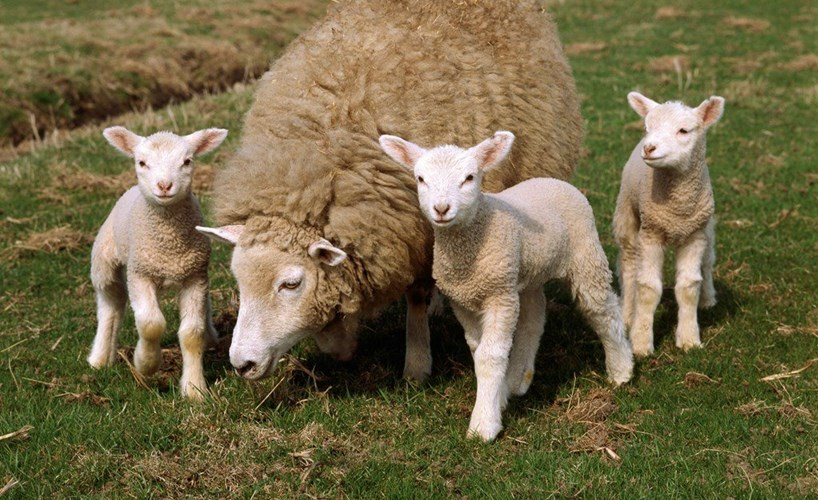sheep: (207, 1, 581, 401), (382, 131, 631, 423), (86, 124, 228, 391), (611, 98, 737, 348)
